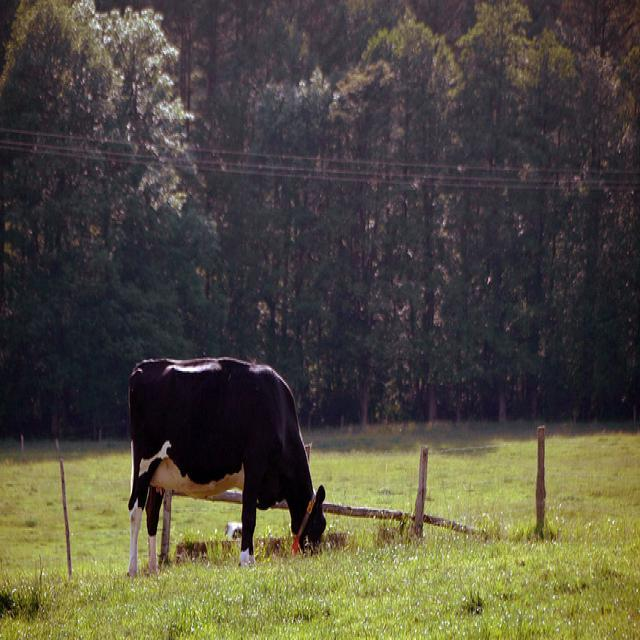cow: (120, 347, 331, 588)
